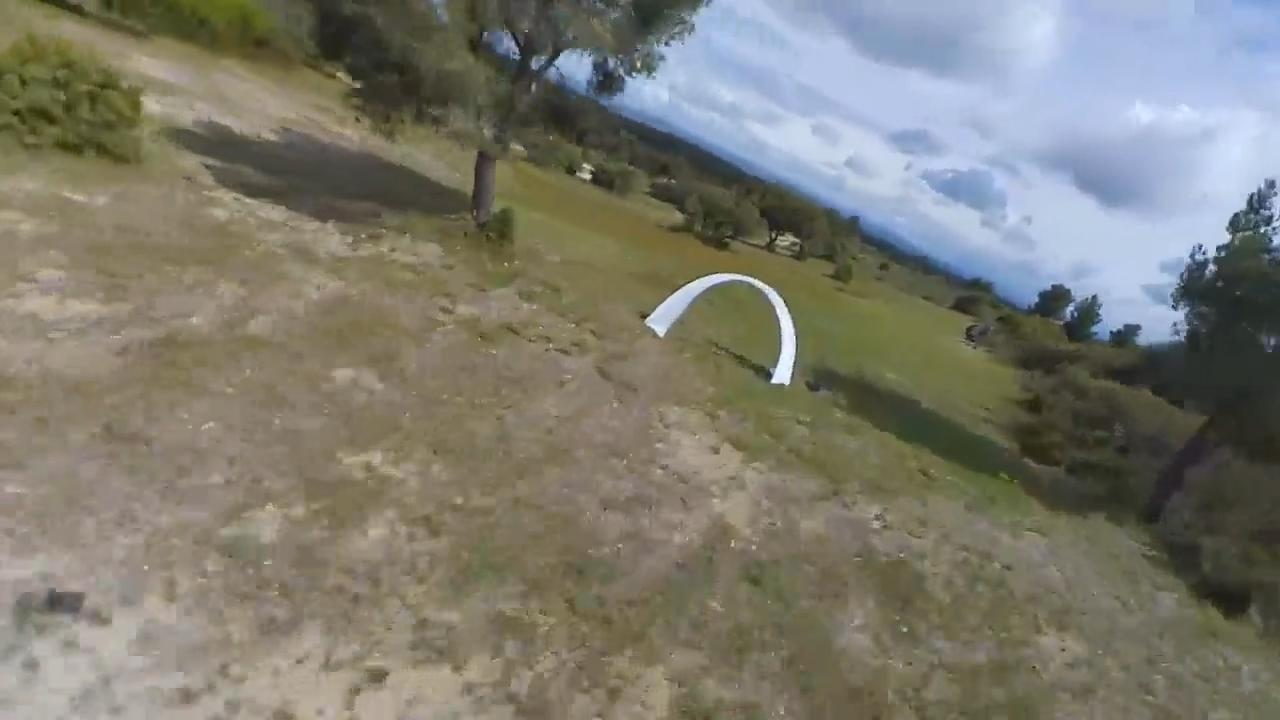gate: (647, 271, 798, 387)
